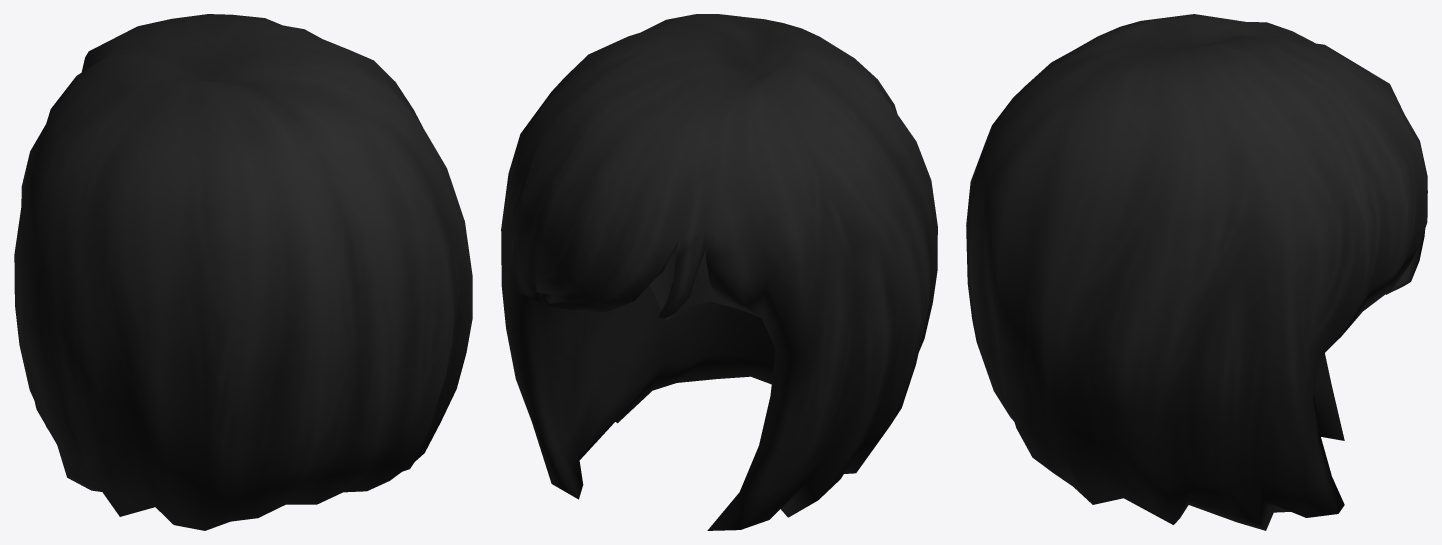
File: Hair_Female_004_textured_black.glb
The picture shows the model from 3 angles, left to right: view 1: azimuth 30°, elevation 25°; view 2: azimuth 150°, elevation 25°; view 3: azimuth 270°, elevation 25°; orthographic projection. The views are drawn at different scales.
Parts seen in each view (by area): view 1: Hair_Female_004; view 2: Hair_Female_004; view 3: Hair_Female_004.
Part boxes in pixels (x1=…): Hair_Female_004: x1=14, y1=14, x2=472, y2=530; Hair_Female_004: x1=501, y1=14, x2=937, y2=530; Hair_Female_004: x1=966, y1=14, x2=1427, y2=530.
Bounding box in the file's own units: 0.214 × 0.2309 × 0.223.
1 material, 1 textured.
